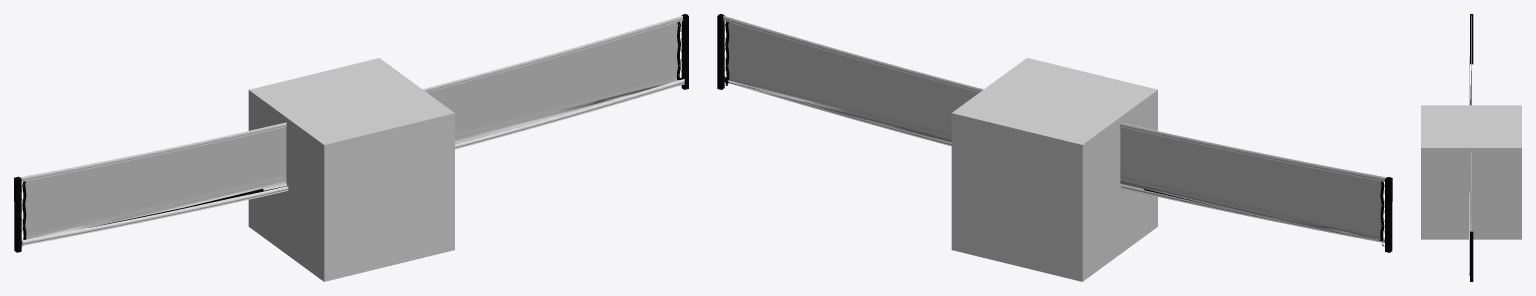
The model's file is Net.fbx.
3 renders of one model, left to right at view 1: azimuth 30°, elevation 25°; view 2: azimuth 150°, elevation 25°; view 3: azimuth 270°, elevation 25°, orthographic. The views are drawn at different scales.
Visible parts, largest first — view 1: Cube, Net, Net.001, Net.002; view 2: Cube, Net, Net.002, Net.001; view 3: Cube, Net, Net.002, Net.001.
Boxes of the visible parts, bbox=[...] form: Cube: bbox=[248, 58, 454, 281]; Net: bbox=[14, 14, 688, 252]; Net.001: bbox=[21, 79, 684, 245]; Net.002: bbox=[20, 16, 682, 181]; Cube: bbox=[951, 58, 1157, 281]; Net: bbox=[717, 14, 1392, 252]; Net.002: bbox=[723, 16, 1386, 181]; Net.001: bbox=[724, 76, 1384, 242]; Cube: bbox=[1421, 105, 1521, 239]; Net: bbox=[1469, 14, 1473, 281]; Net.002: bbox=[1471, 15, 1471, 231]; Net.001: bbox=[1469, 57, 1469, 275].
Bounding box in the file's own units: 1030 × 208 × 200.
